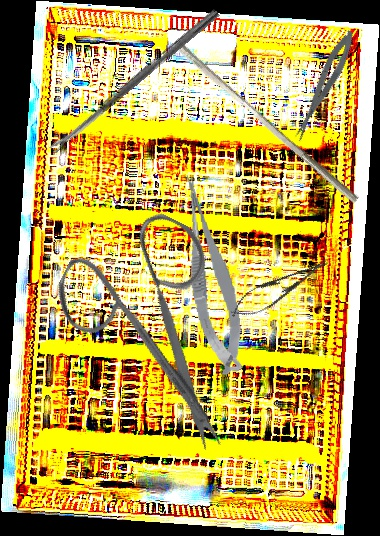Iris Scissors: (21, 186, 301, 455)
Micro Scissor: (176, 170, 249, 379), (286, 27, 361, 144)
Needle Holder: (225, 249, 335, 327)
Pusher: (168, 40, 366, 204)
Surgical Spoon: (48, 7, 220, 155)
